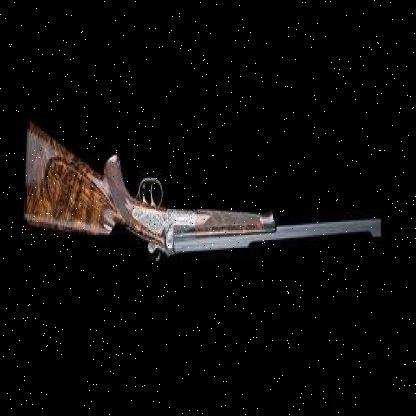rifle: (16, 93, 391, 317)
